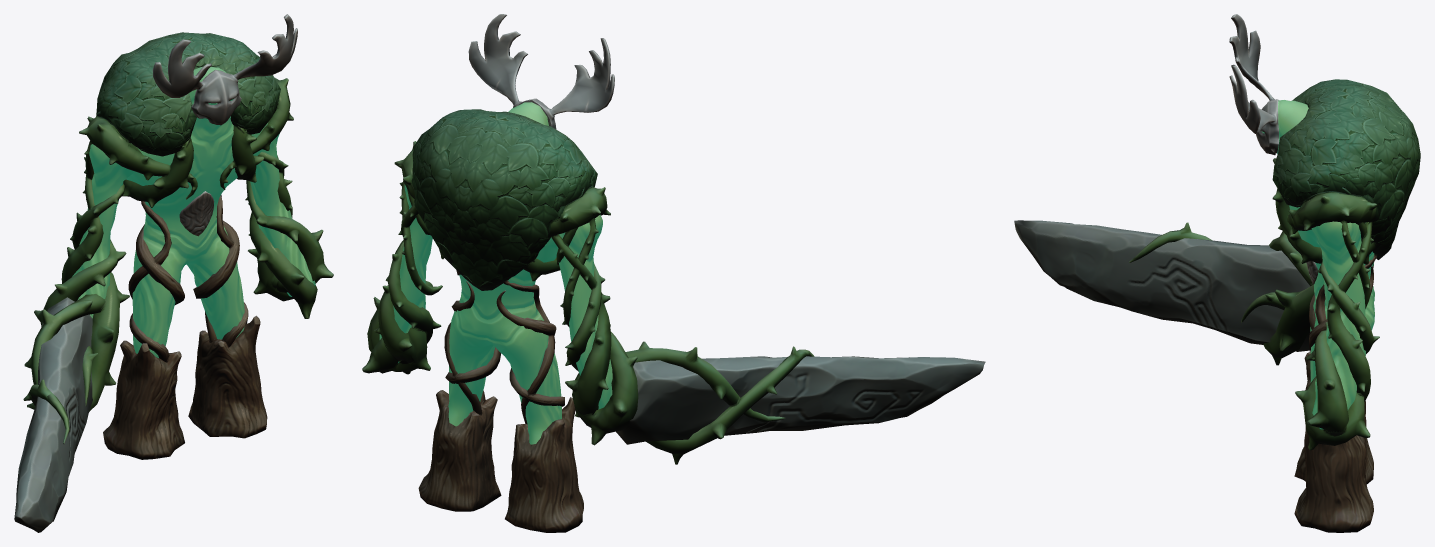
File: guardian test.fbx
The picture shows the model from 3 angles, left to right: view 1: azimuth 30°, elevation 25°; view 2: azimuth 150°, elevation 25°; view 3: azimuth 270°, elevation 25°; orthographic projection. The views are drawn at different scales.
Parts seen in each view (by area): view 1: life_guardian_low; view 2: life_guardian_low; view 3: life_guardian_low.
Boxes of the visible parts, x1,y1,x2,y2 form: life_guardian_low: (14,14,333,532); life_guardian_low: (362,14,985,532); life_guardian_low: (1014,14,1420,532).
Bounding box in the file's own units: 544 × 503 × 405.
1 material, 1 textured.
